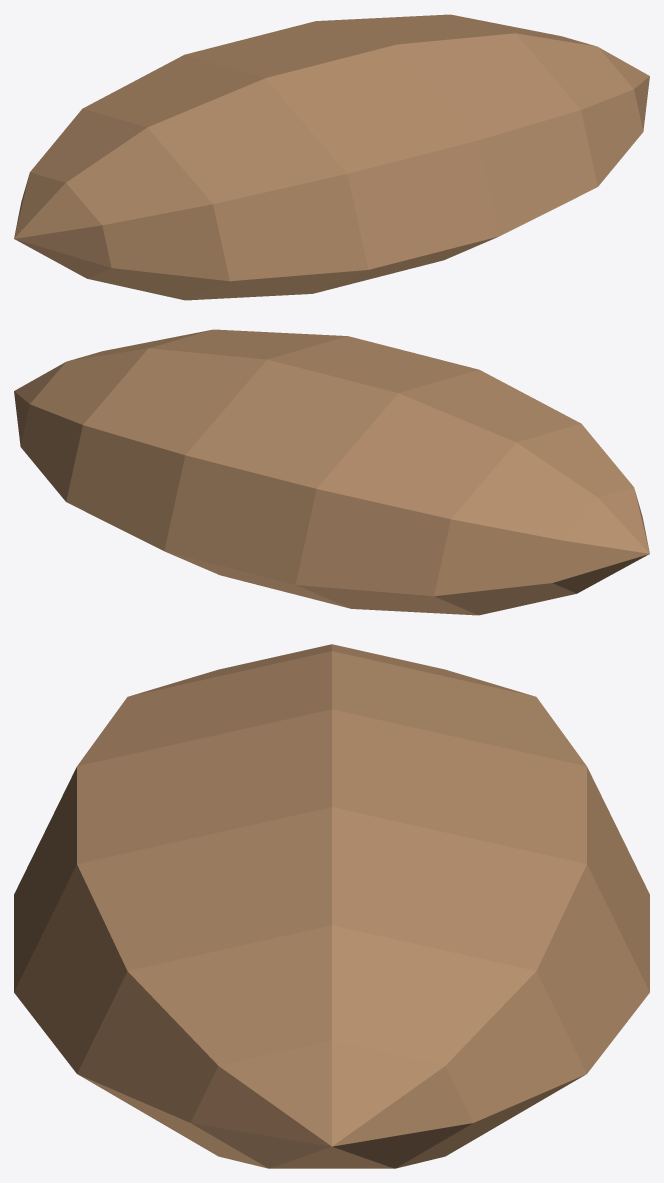
File: seed.fbx
3 renders of one model, top to bottom at view 1: azimuth 30°, elevation 25°; view 2: azimuth 150°, elevation 25°; view 3: azimuth 270°, elevation 25°, orthographic. The views are drawn at different scales.
Parts seen in each view (by area): view 1: pSphere1; view 2: pSphere1; view 3: pSphere1.
Boxes of the visible parts, x1,y1,x2,y2 form: pSphere1: (14,14,649,300); pSphere1: (14,329,649,615); pSphere1: (14,644,649,1168).
Size of the model in its own units: 2.16 by 0.5982 by 1.19.
